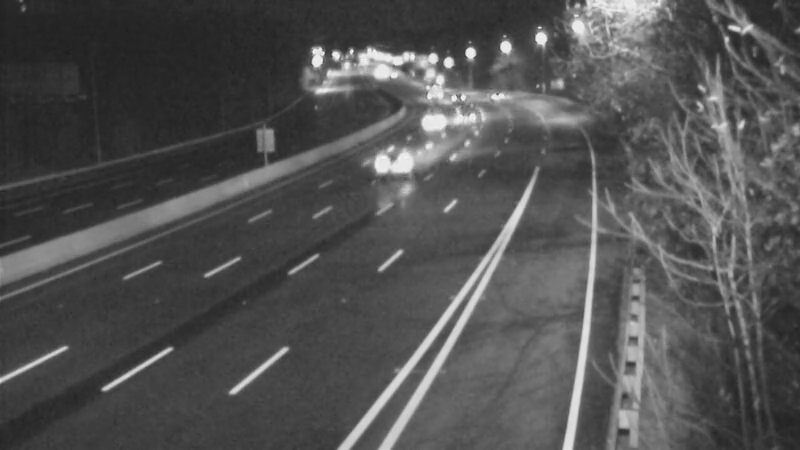vehicle: (364, 120, 444, 200), (471, 69, 521, 119), (400, 67, 450, 117), (431, 71, 481, 121), (440, 88, 490, 138), (402, 97, 452, 147)
